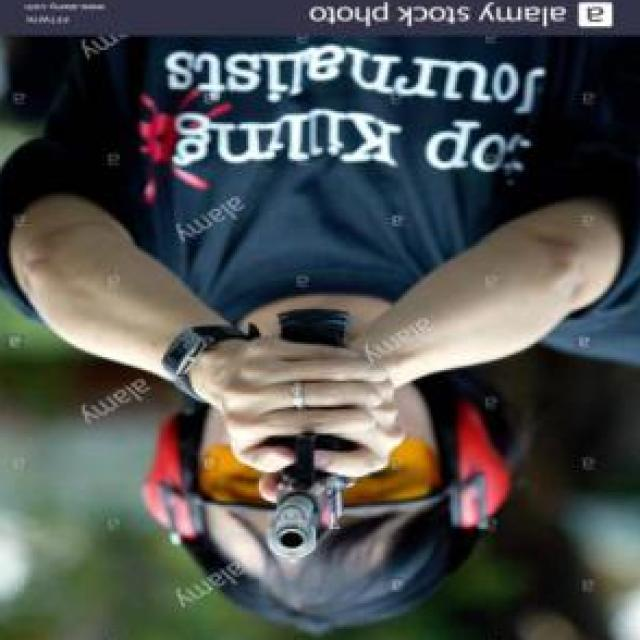pistol: (228, 302, 383, 560)
